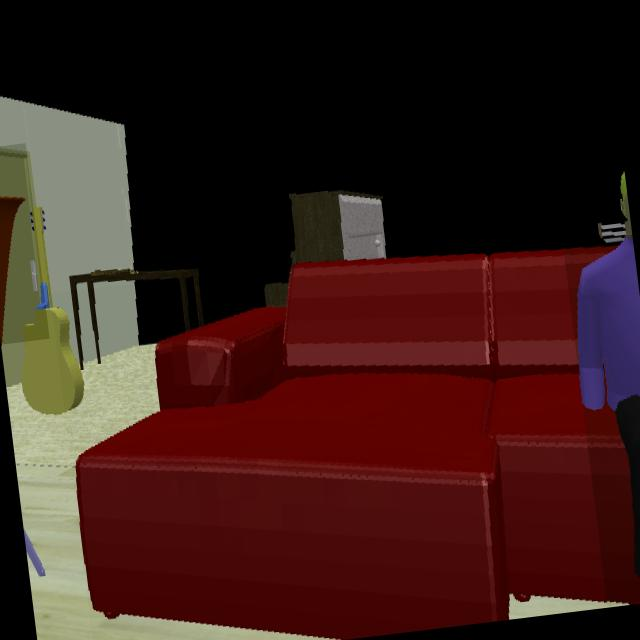chair: (0, 156, 30, 344)
person: (577, 235, 640, 412)
sofa: (74, 248, 640, 640)
